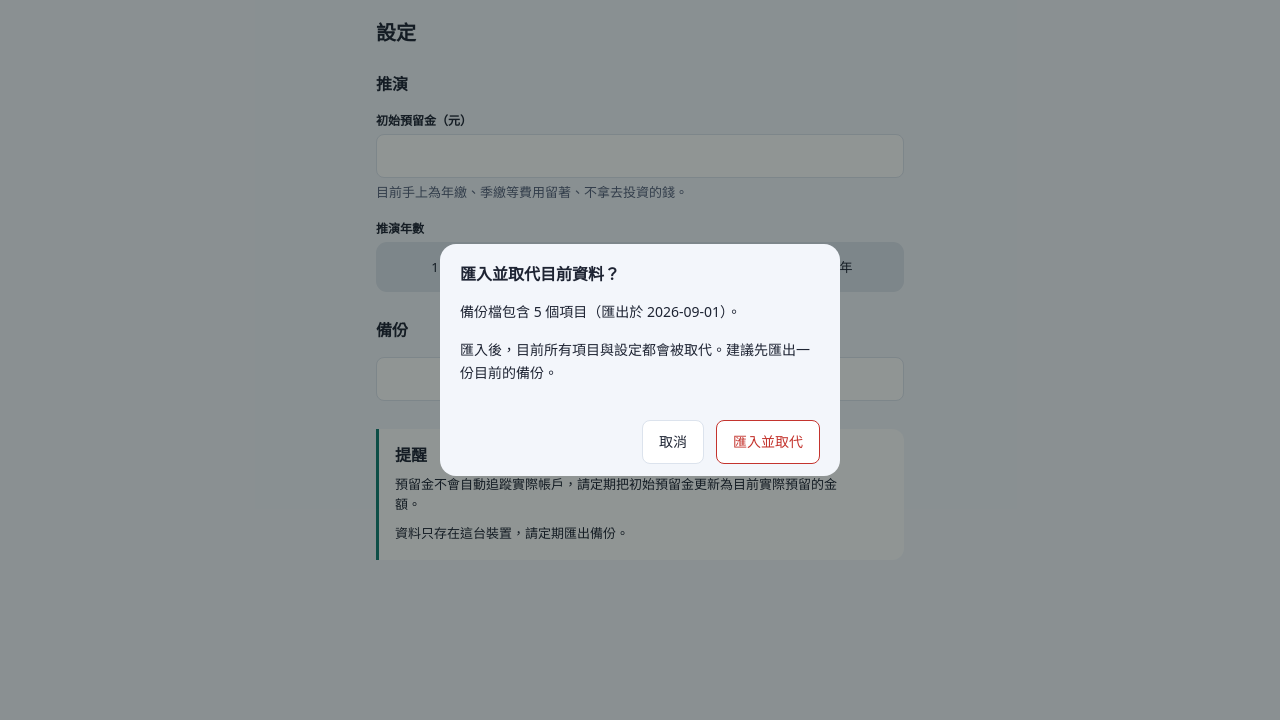
匯入 › 取消匯入
Earlier steps of the test are not shown.
Check: the button "匯入備份" is shown, box [646, 357, 904, 401]
Click the button "取消": (673, 442) [642, 420, 704, 464]
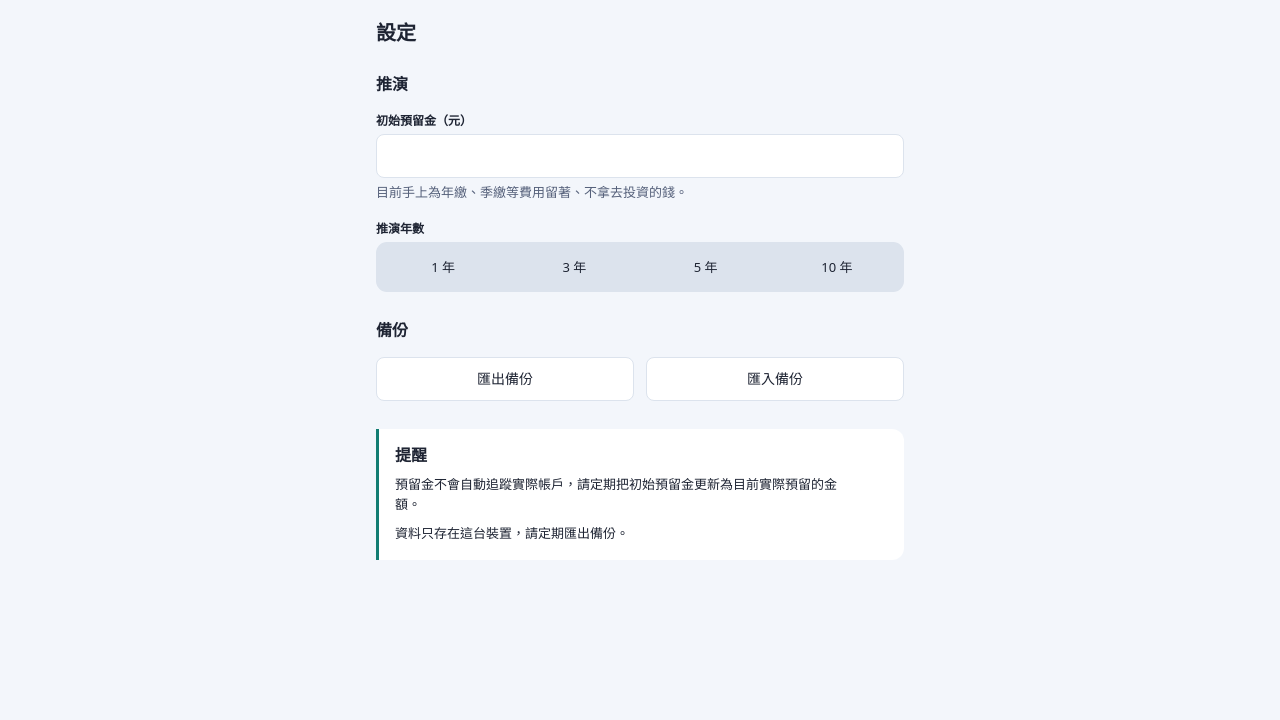
Check: the dialog is gone
